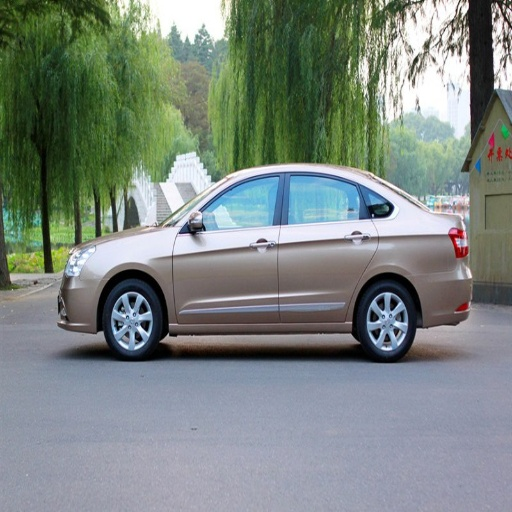back_left_door: (280, 171, 378, 320)
front_left_door: (173, 172, 284, 321)
